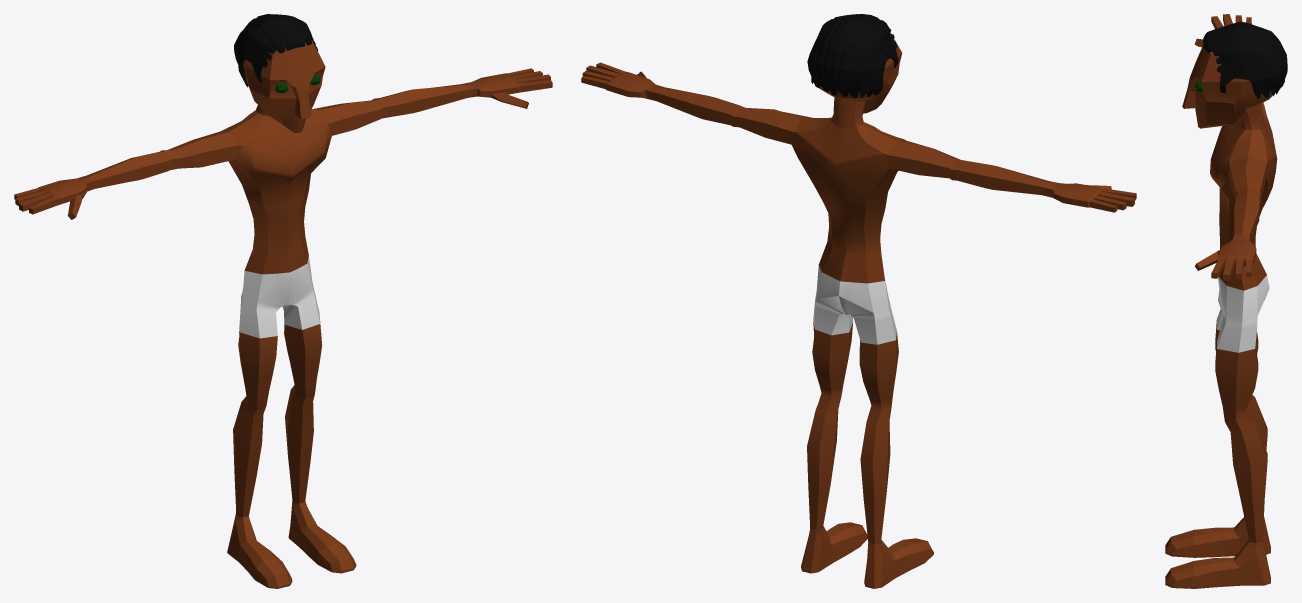
File: male.fbx
3 views of the same model, side by side, from view 1: azimuth 30°, elevation 25°; view 2: azimuth 150°, elevation 25°; view 3: azimuth 270°, elevation 25° (orthographic). The views are drawn at different scales.
Visible parts, largest first — view 1: body, hair; view 2: body, hair; view 3: body, hair.
Part boxes in pixels (x1=…): body: x1=14, y1=40, x2=552, y2=588; hair: x1=234, y1=14, x2=318, y2=87; body: x1=581, y1=32, x2=1136, y2=588; hair: x1=807, y1=14, x2=898, y2=98; body: x1=1165, y1=14, x2=1277, y2=588; hair: x1=1203, y1=21, x2=1287, y2=99.
Bounding box in the file's own units: 44.43 × 42.9 × 8.81.
